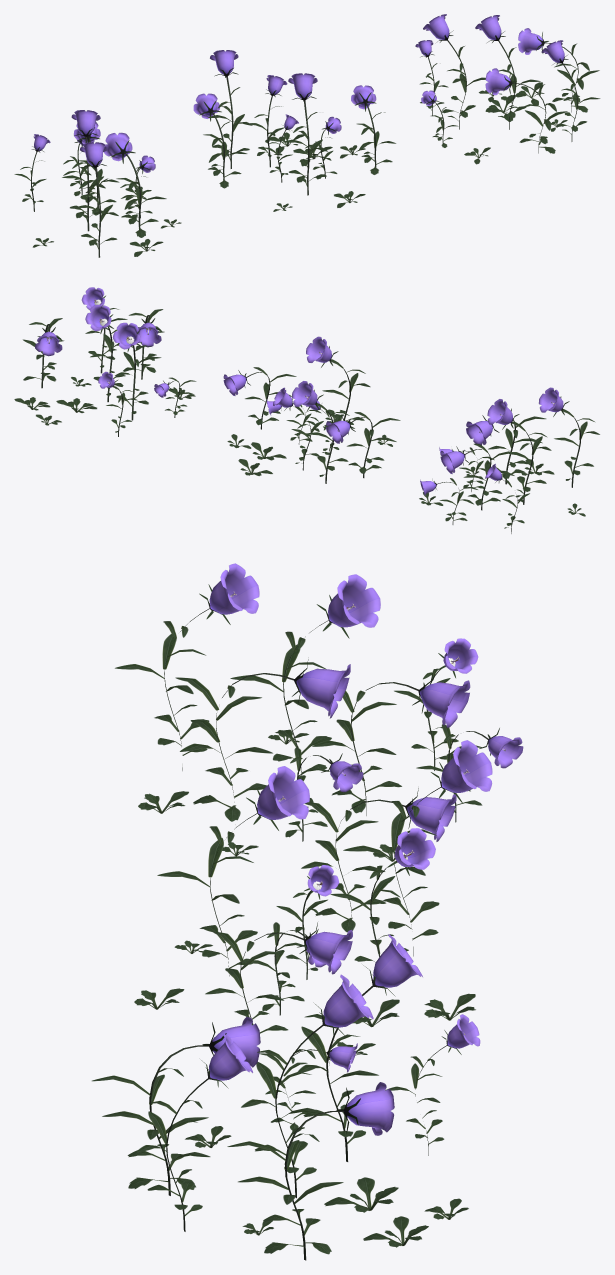
The model's file is violetflower.glb.
The picture shows the model from 3 angles, top to bottom: view 1: azimuth 30°, elevation 25°; view 2: azimuth 150°, elevation 25°; view 3: azimuth 270°, elevation 25°; orthographic projection. The views are drawn at different scales.
Visible parts, largest first — view 1: Object_4; view 2: Object_4; view 3: Object_4.
Boxes of the visible parts, left/top/right/bottom form: Object_4: left=14, top=14, right=600, bottom=257; Object_4: left=14, top=287, right=599, bottom=533; Object_4: left=92, top=563, right=523, bottom=1260.
Bounding box in the file's own units: 0.5273 × 0.1004 × 0.1755.
Materials: 1 (1 with a texture image).
